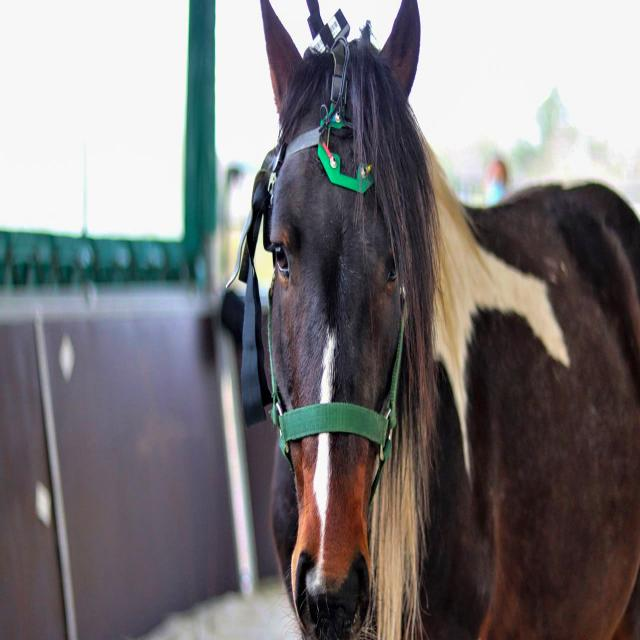horse: (256, 0, 640, 639)
